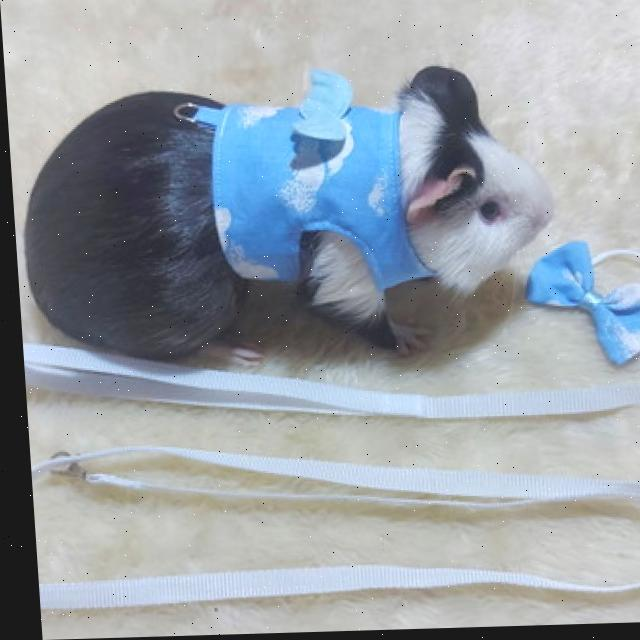guinea pig: (13, 65, 564, 378)
